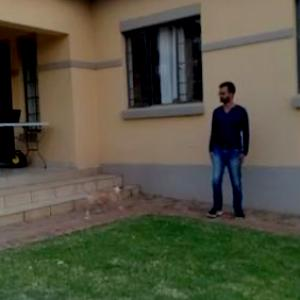follow: (206, 78, 254, 221)
